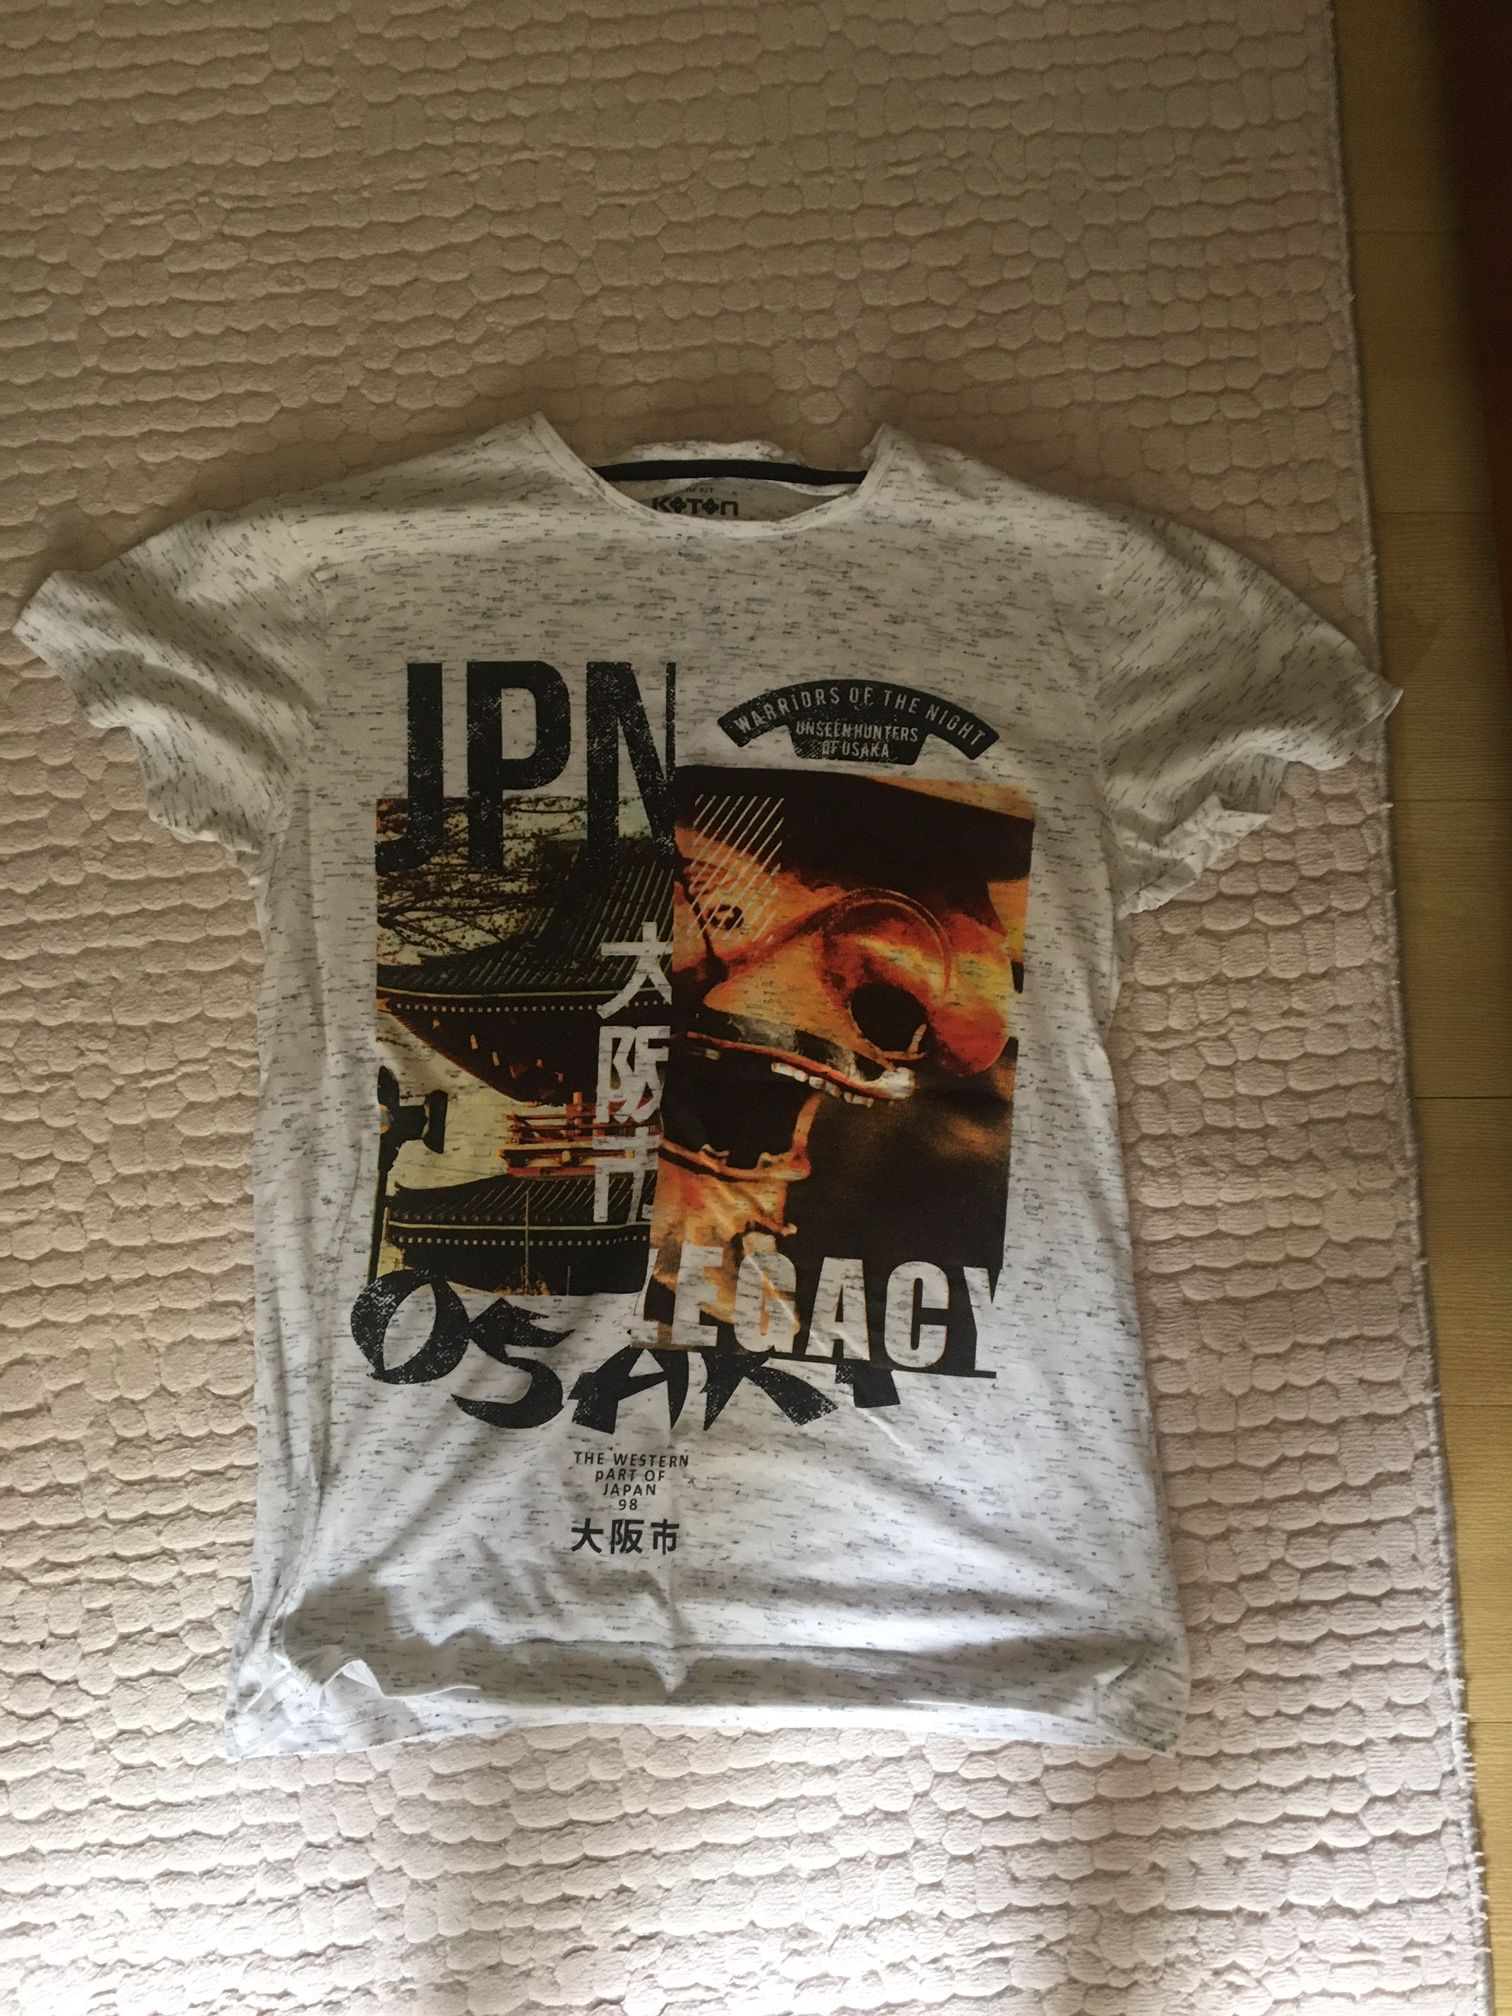clothes: (11, 413, 1390, 1752)
